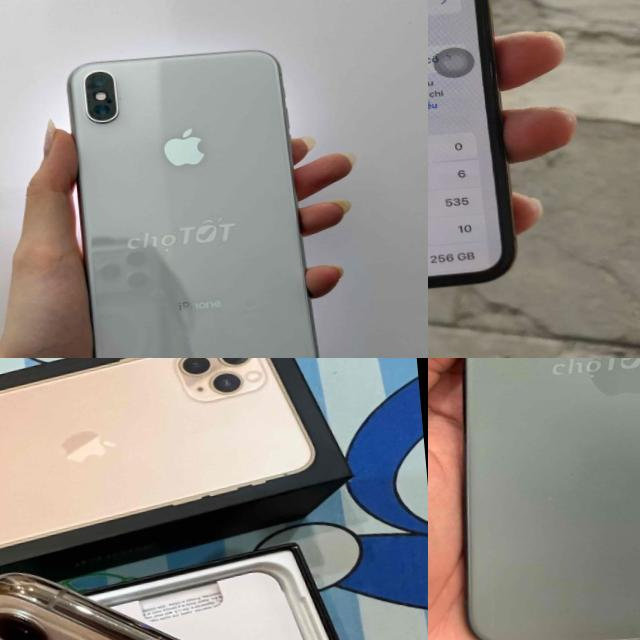gen_11: (462, 358, 640, 640), (0, 533, 365, 640)
gen_x_xs: (67, 50, 317, 358), (428, 0, 526, 314)
